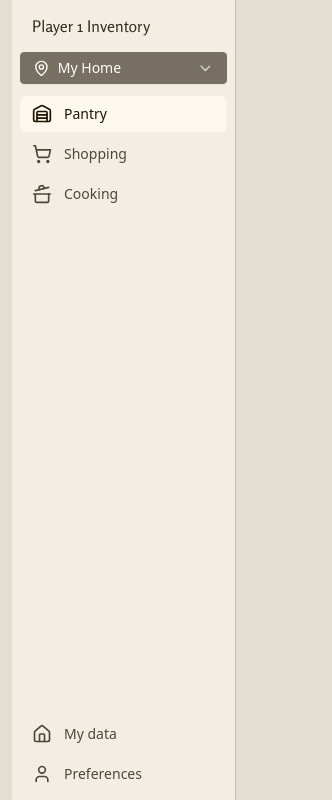
Test case: Sidebar › user can open Preferences in the sidebar and go Back to the main view
The image size is (332, 800).
When the user presses 👤 Preferences
Click the button "Preferences".
click(124, 774)  # box top-left (20, 756), bottom-right (227, 792)
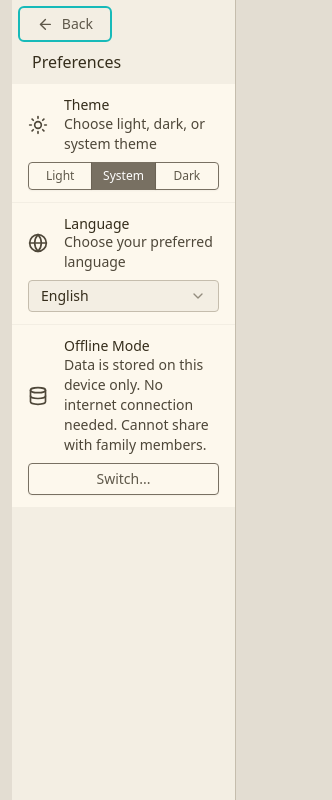
Check: the text "Theme" is shown, box top-left (64, 95), bottom-right (109, 114)
Check: the text "Language" is shown, box top-left (64, 214), bottom-right (130, 232)
Check: the text "Offline Mode" is shown, box top-left (64, 336), bottom-right (150, 355)
When the user presses Back
Click the button "Back".
click(65, 24)  # box top-left (20, 8), bottom-right (110, 40)
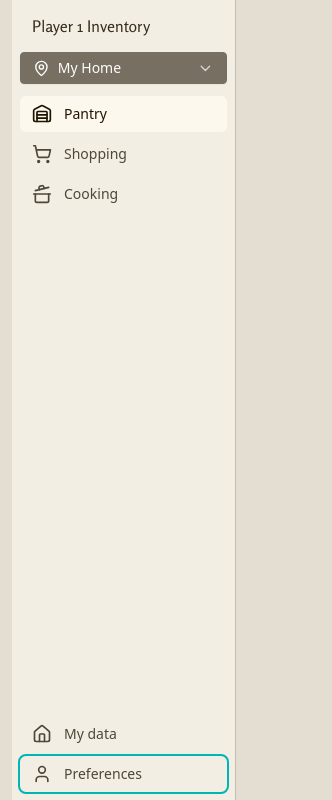
Check: the link "Pantry" is shown, box top-left (20, 96), bottom-right (227, 132)
Check: the text "Theme" is gone
